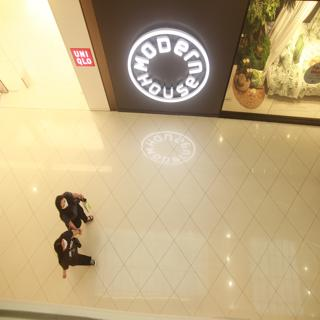person: (44, 234, 103, 284), (45, 188, 101, 235)
